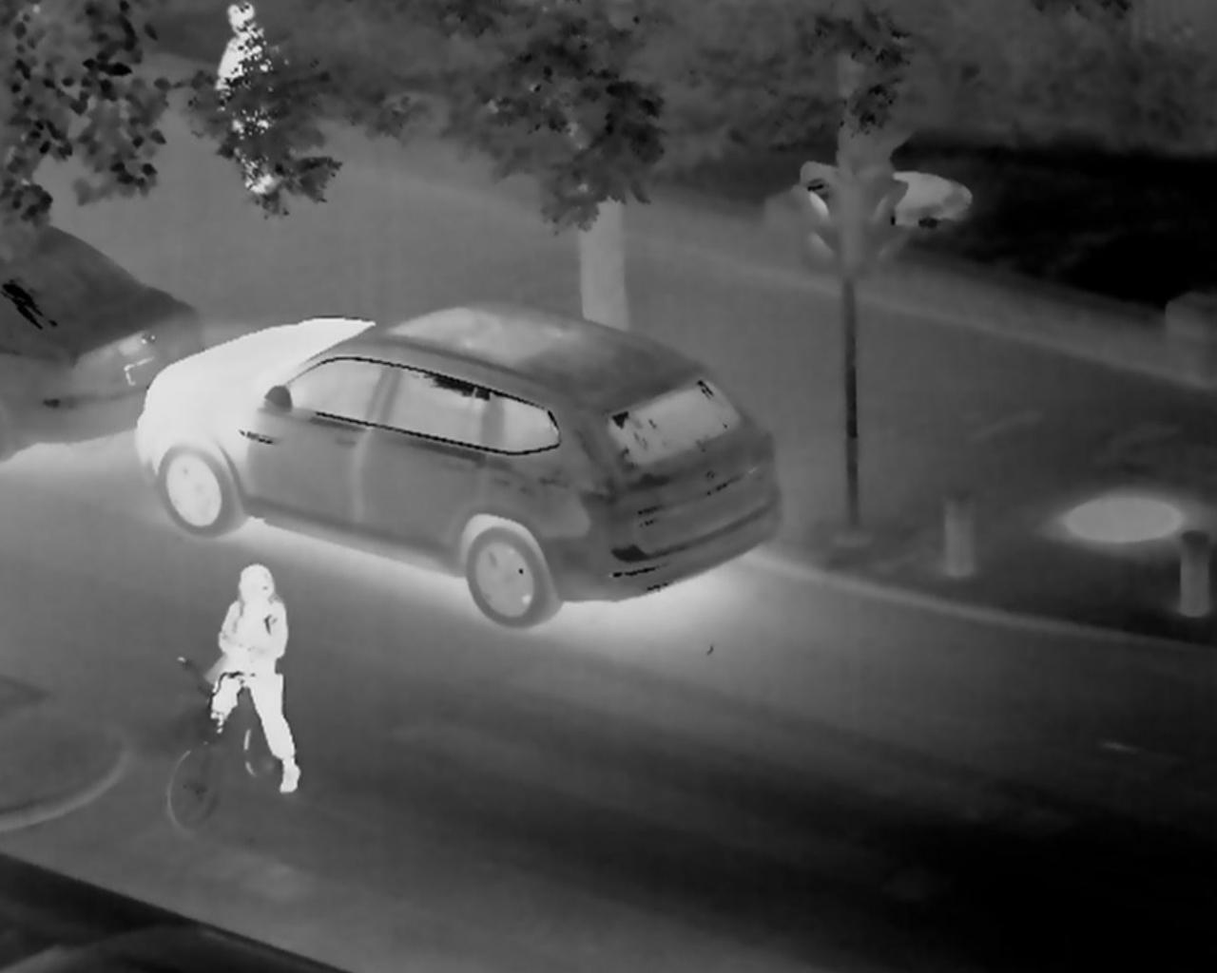person: (196, 554, 309, 800), (212, 6, 286, 193)
